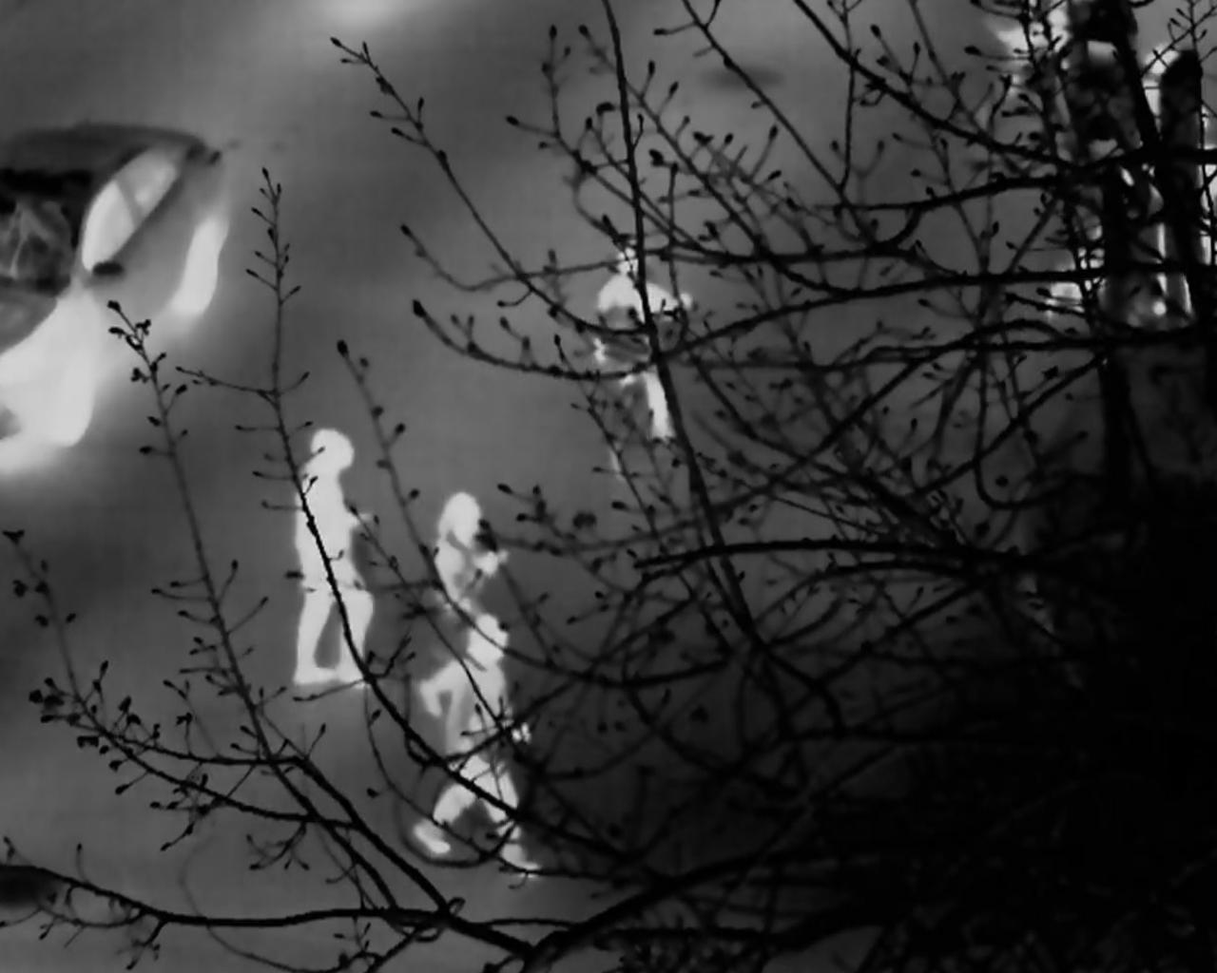person: (289, 423, 373, 710), (576, 241, 682, 464), (442, 622, 531, 861), (418, 479, 513, 696)
